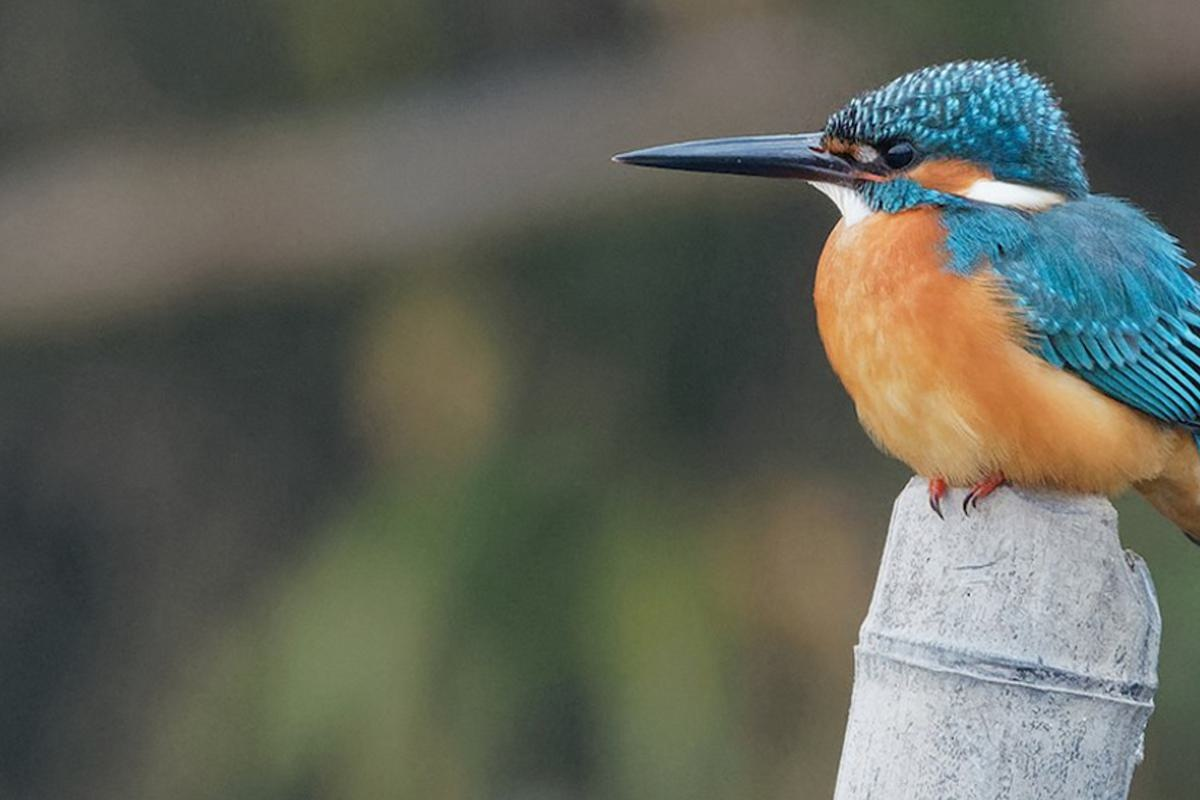kingfisher: (614, 46, 1200, 553)
